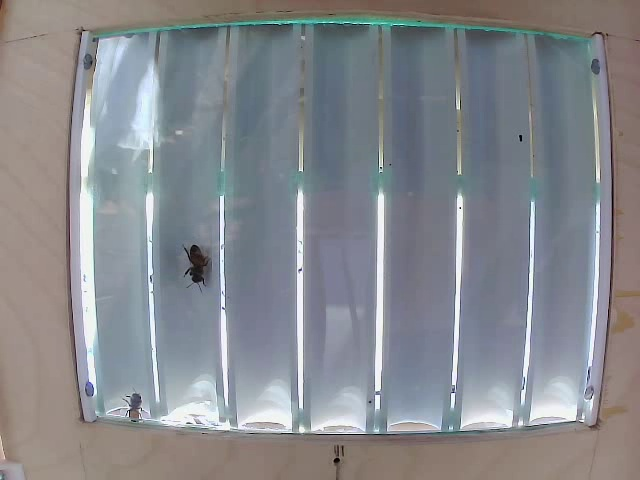bee: (180, 233, 219, 287)
